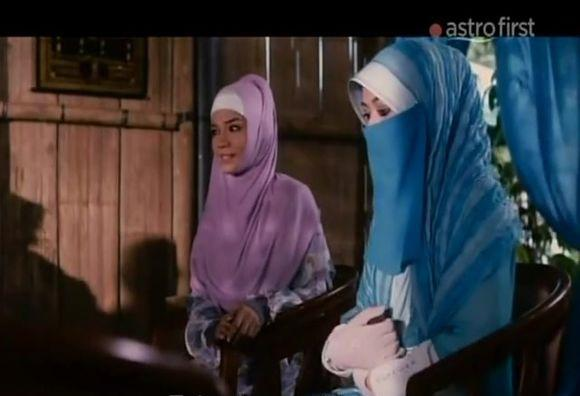NONE: (210, 117, 257, 170)
OK: (358, 99, 415, 156)
